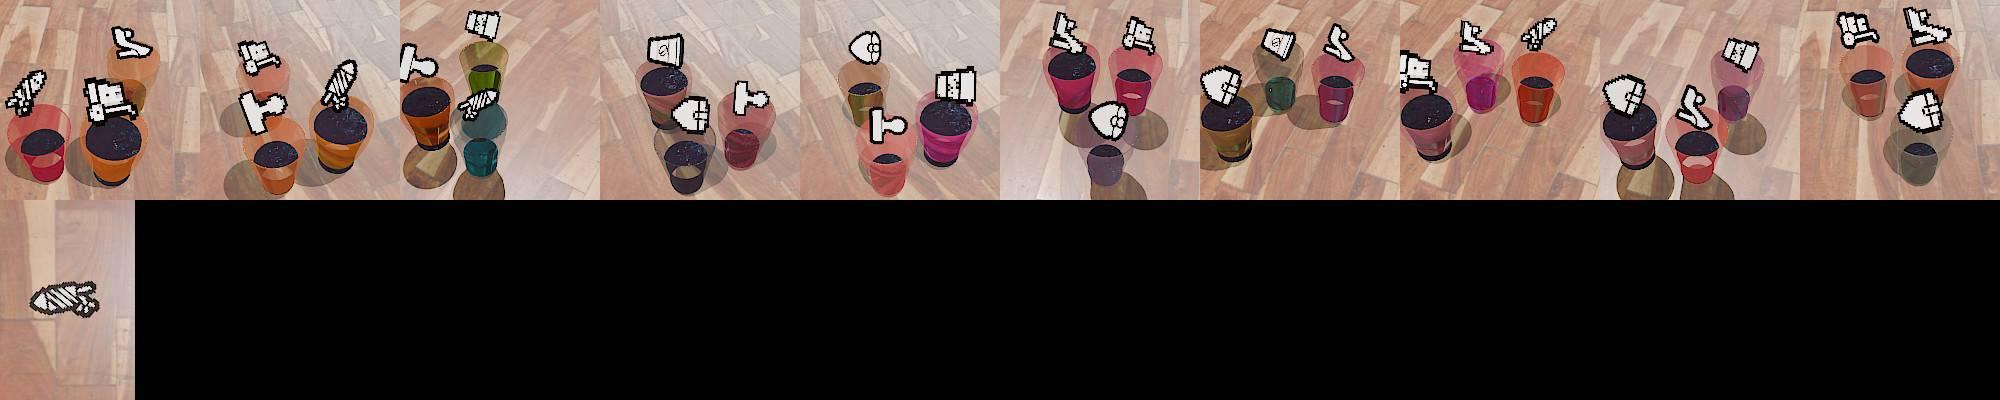icon: (27, 279, 101, 318), (82, 76, 138, 124), (237, 89, 290, 135), (319, 57, 358, 113), (1601, 73, 1649, 117), (4, 70, 47, 118), (1897, 87, 1943, 131), (1903, 6, 1950, 47), (1675, 83, 1713, 132), (1399, 48, 1439, 94), (934, 65, 978, 104), (237, 38, 282, 76), (1200, 65, 1241, 106), (1835, 11, 1879, 50), (1088, 99, 1129, 139), (399, 43, 439, 84), (671, 94, 710, 134), (1718, 37, 1760, 74), (1519, 15, 1559, 54), (869, 106, 909, 143), (111, 25, 153, 60), (458, 88, 500, 122), (732, 79, 770, 116), (1458, 19, 1495, 56), (647, 33, 685, 69), (1121, 17, 1156, 55), (1323, 23, 1356, 62), (1260, 27, 1296, 62), (464, 9, 503, 42), (848, 31, 881, 65), (1051, 11, 1080, 45)
